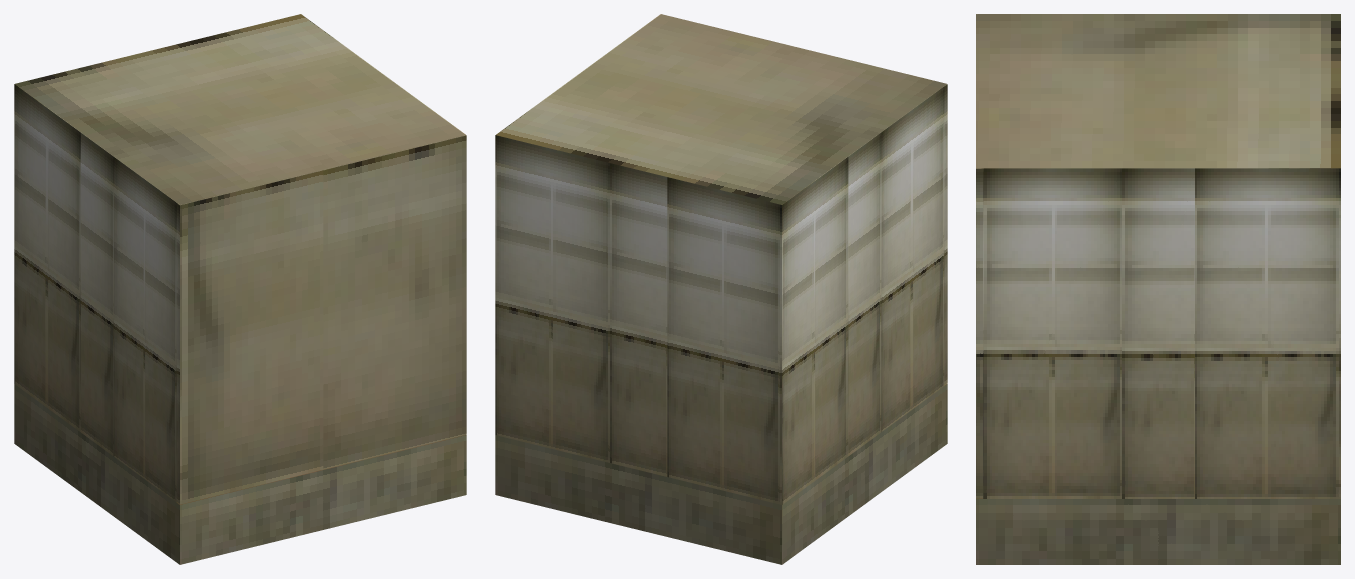
Rendered from elevator.glb.
3 renders of one model, left to right at view 1: azimuth 30°, elevation 25°; view 2: azimuth 150°, elevation 25°; view 3: azimuth 270°, elevation 25°, orthographic. The views are drawn at different scales.
Parts seen in each view (by area): view 1: Cube, Cube.001, Cube.002; view 2: Cube, Cube.001; view 3: Cube, Cube.002.
Part boxes in pixels (<box>): Cube: <box>14,14,466,564</box>; Cube.001: <box>176,170,323,504</box>; Cube.002: <box>323,135,466,469</box>; Cube: <box>495,14,947,564</box>; Cube.001: <box>944,84,947,385</box>; Cube: <box>976,14,1340,564</box>; Cube.002: <box>976,168,983,498</box>.
Bounding box in the file's own units: 5 × 6 × 5.
1 material, 1 textured.
